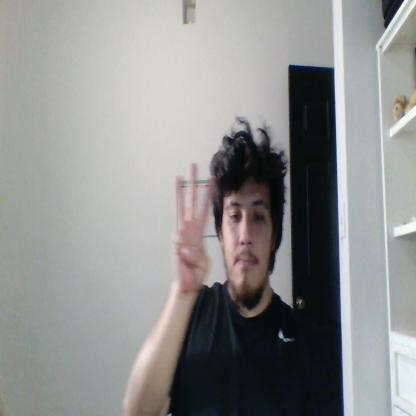W: (175, 162, 213, 298)
